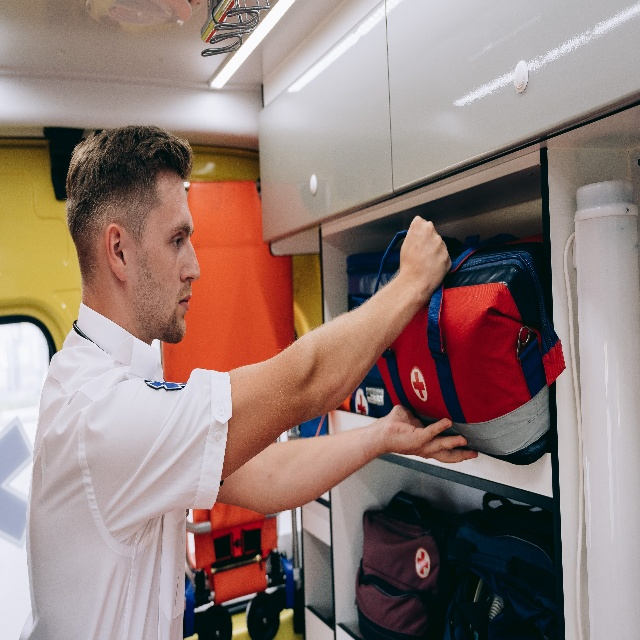Sin_guantes: (383, 407, 480, 468), (397, 215, 452, 299)
